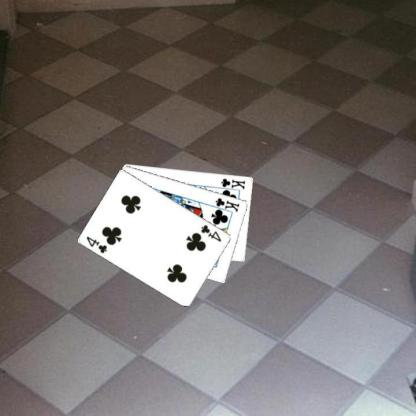4C: (199, 222, 222, 243), (84, 234, 108, 254)
KC: (209, 196, 241, 214), (216, 176, 246, 192)
